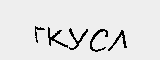Г: (29, 22, 45, 47)
К: (47, 27, 67, 51)
Л: (109, 27, 128, 52)
С: (89, 26, 109, 55)
У: (66, 26, 88, 51)
